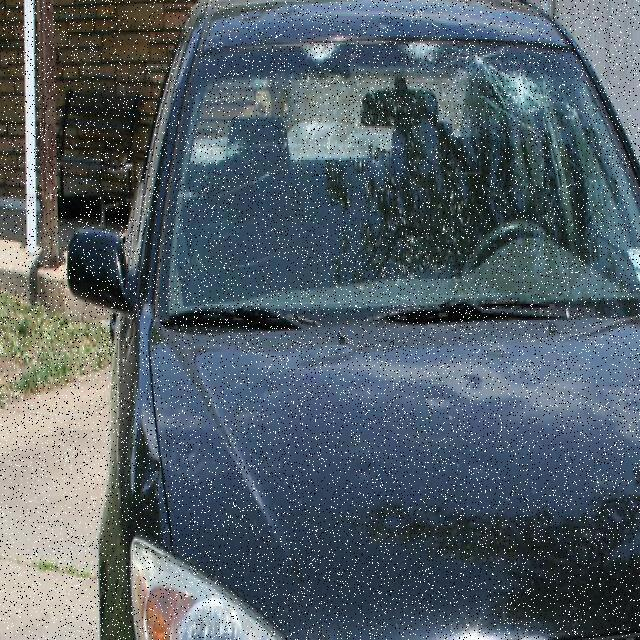Front-Windscreen-Damage: (156, 24, 624, 334)
bonnet-dent: (151, 332, 639, 568)
